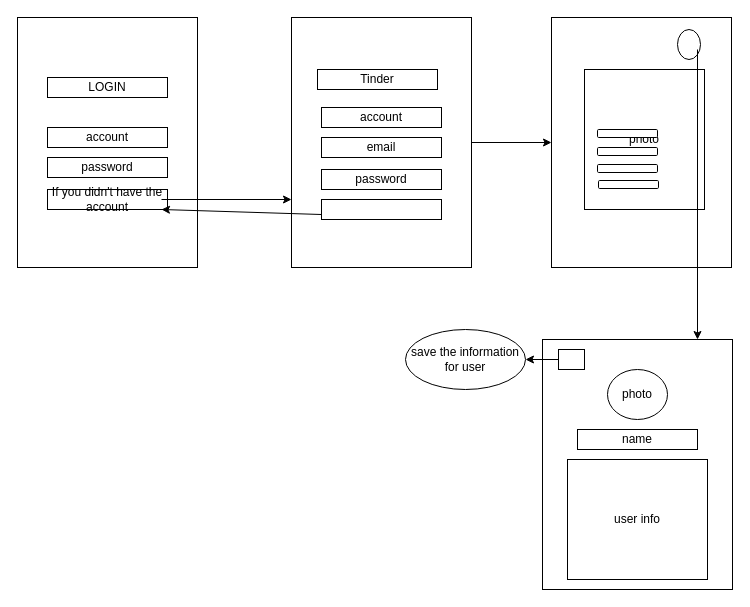
Some shapes in this 750 by 607 pixel diagram are drawn without their labels. The shapes that lost their labels are listed below. From the top down, each one's centre as x and y in pixels, then its label:
At point (381, 209): "If you have the account".
At point (571, 359): "save".
